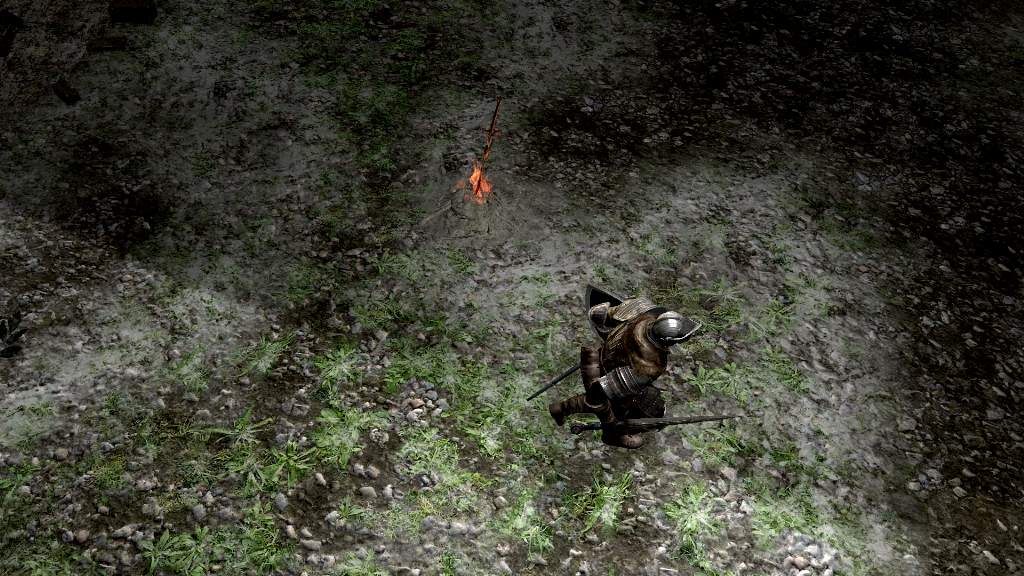bonfire: (464, 93, 510, 206)
player: (549, 281, 744, 453)
